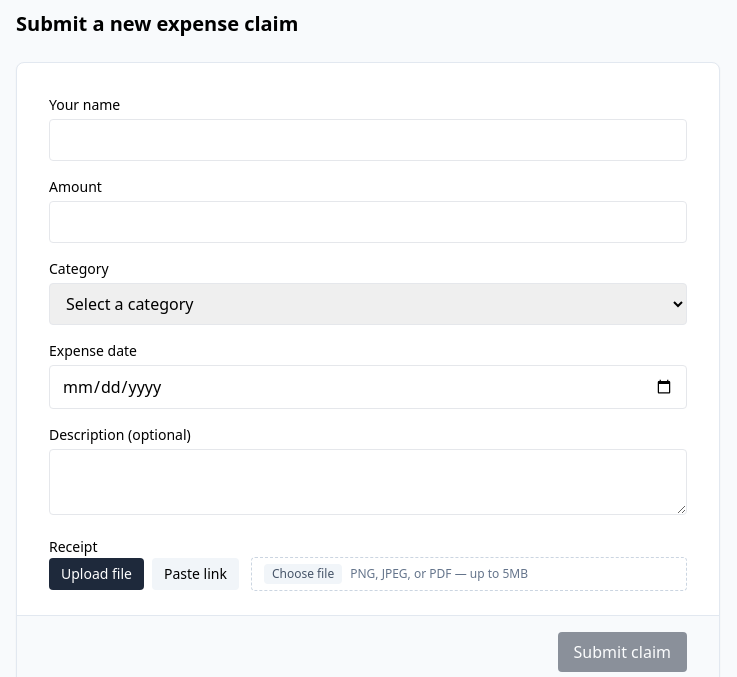
Test case: New claim submission renders the correct status badge › renders "audit-flagged-1" badge for mock "Audit Flagged"
This screenshot has width=737, height=677.
Type "Jane Employee" into the field labelled "Your name" at (368, 140), box [49,119,687,161]
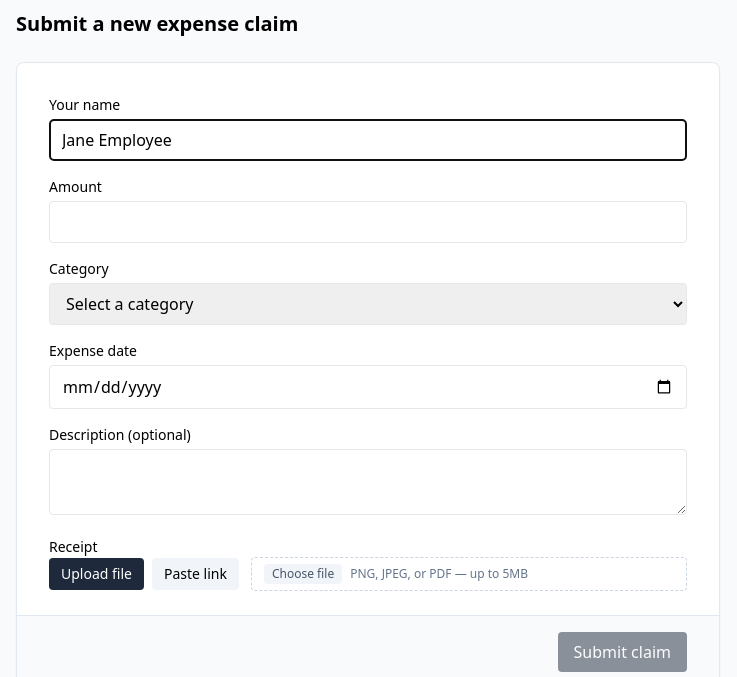
Type "20" into the field labelled "Amount" at (368, 222), box [49,201,687,243]
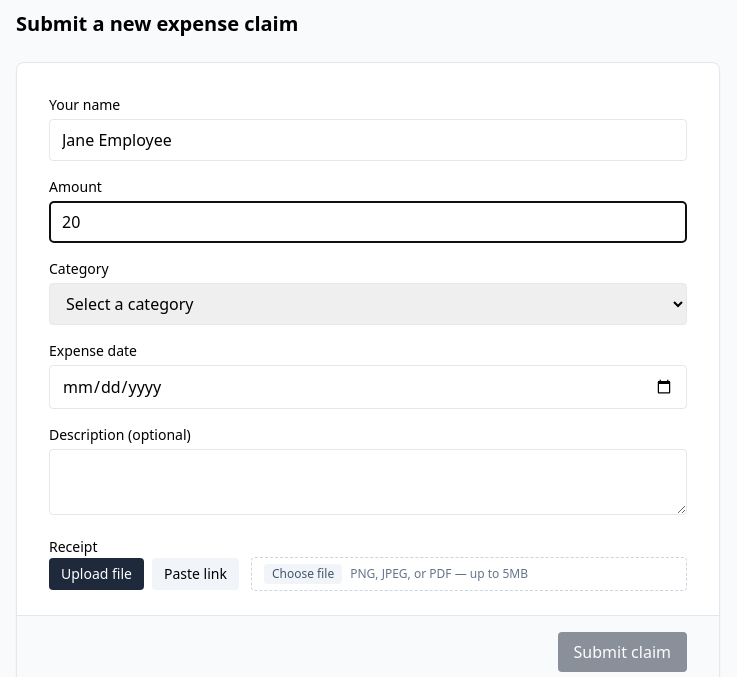
Select "meals" in the dropdown labelled "Category" at (368, 304), box [49,283,687,325]
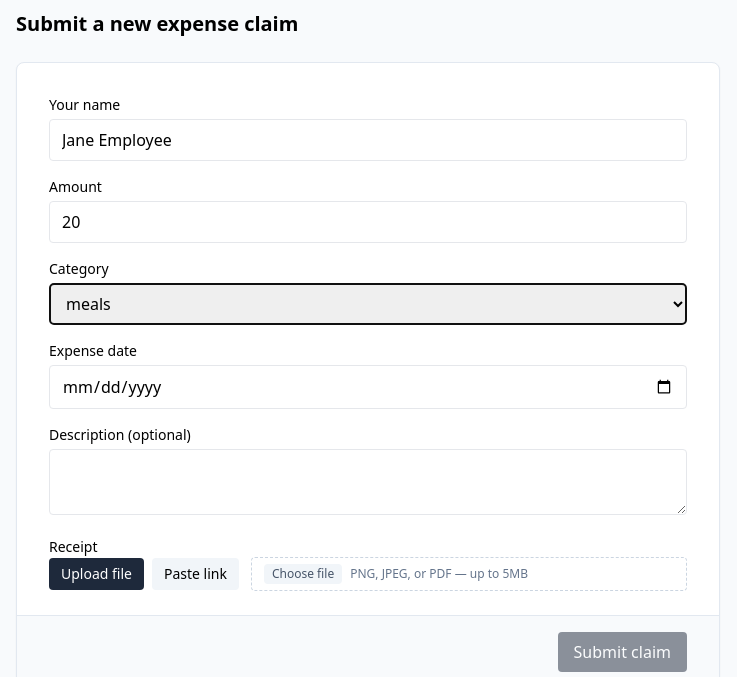
Type "2026-01-01" into the date field labelled "Expense date" at (368, 387), box [49,365,687,409]
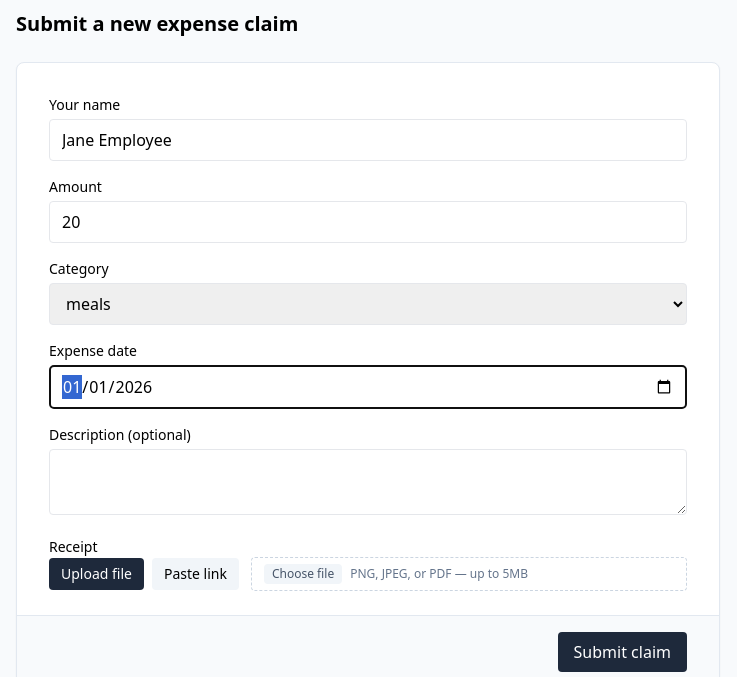
Click the button "Submit claim" at (622, 652), box [558,632,687,672]
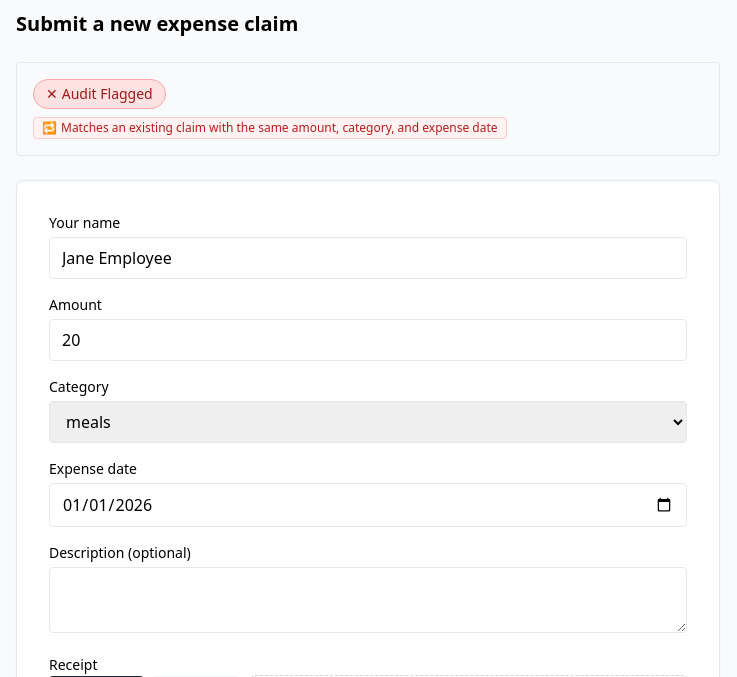
Check: the message shows "Audit Flagged", box [62,84,153,103]
Check: the text "Matches an existing claim with the same amount, category, and expense date" is shown, box [61,119,498,136]
